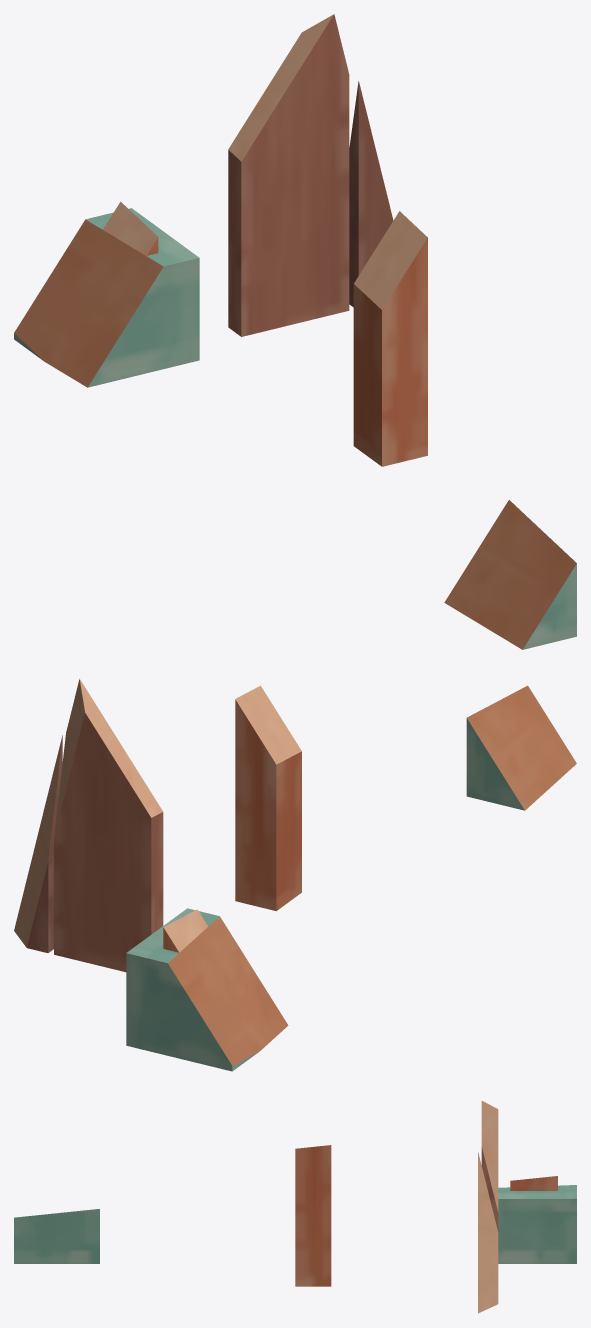
The model's file is stall_s00.fbx.
3 renders of one model, top to bottom at view 1: azimuth 30°, elevation 25°; view 2: azimuth 150°, elevation 25°; view 3: azimuth 270°, elevation 25°, orthographic. The views are drawn at different scales.
Visible parts, largest first — view 1: stall_s00; view 2: stall_s00; view 3: stall_s00.
Part boxes in pixels (<box>): stall_s00: <box>14,14,576,649</box>; stall_s00: <box>14,679,576,1071</box>; stall_s00: <box>14,1101,576,1313</box>.
Size of the model in its own units: 1.96 by 1.88 by 4.72.
